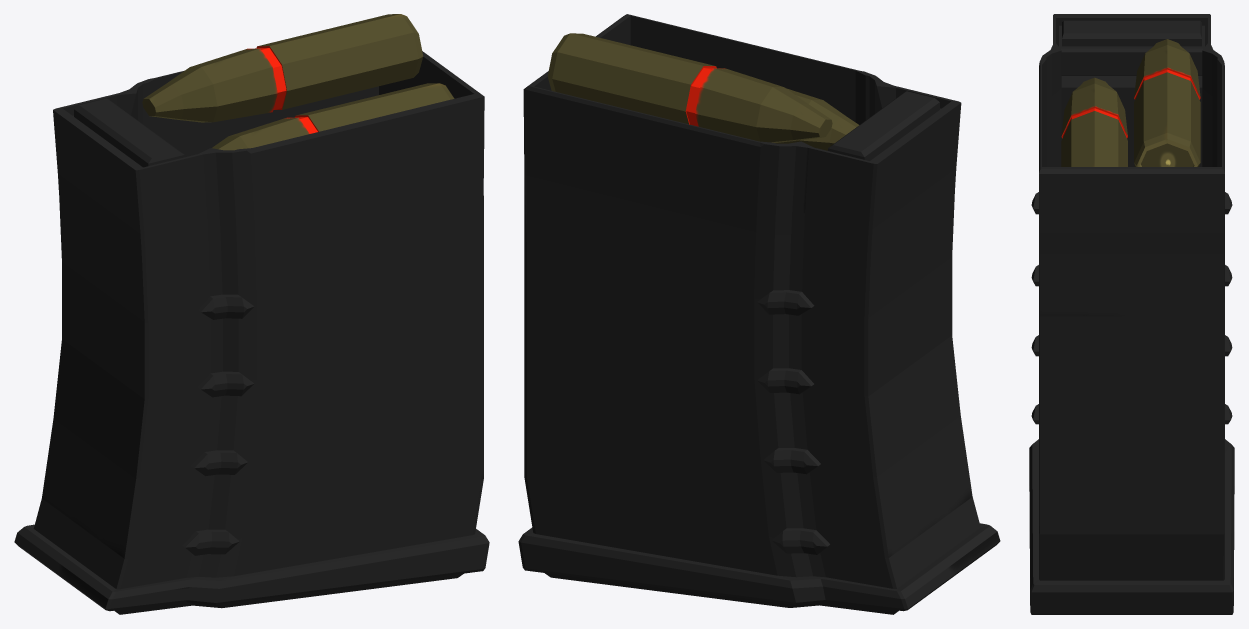
The model's file is LowCharge(AK)(Round).fbx.
3 views of the same model, side by side, from view 1: azimuth 30°, elevation 25°; view 2: azimuth 150°, elevation 25°; view 3: azimuth 270°, elevation 25° (orthographic). The views are drawn at different scales.
Parts seen in each view (by area): view 1: LowCharge(AK), Ammo(AK); view 2: LowCharge(AK), Ammo(AK); view 3: LowCharge(AK), Ammo(AK).
Boxes of the visible parts, x1,y1,x2,y2 form: LowCharge(AK): (14,51,489,614); Ammo(AK): (142,14,454,150); LowCharge(AK): (518,14,1000,614); Ammo(AK): (547,33,859,150); LowCharge(AK): (1029,14,1234,614); Ammo(AK): (1061,39,1200,166).
Size of the model in its own units: 17.81 by 23.21 by 8.94.
